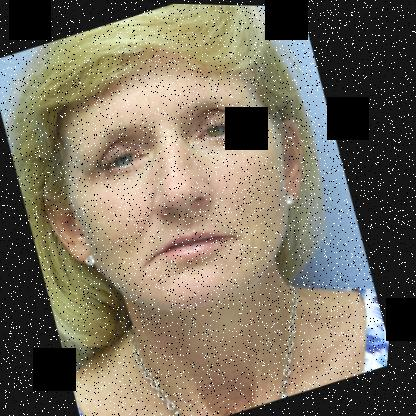Female: (7, 25, 352, 350)
